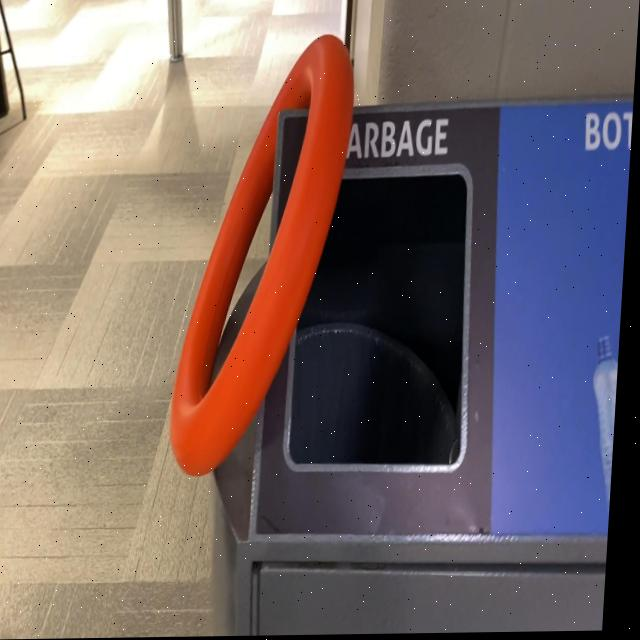note: (171, 33, 358, 479)
